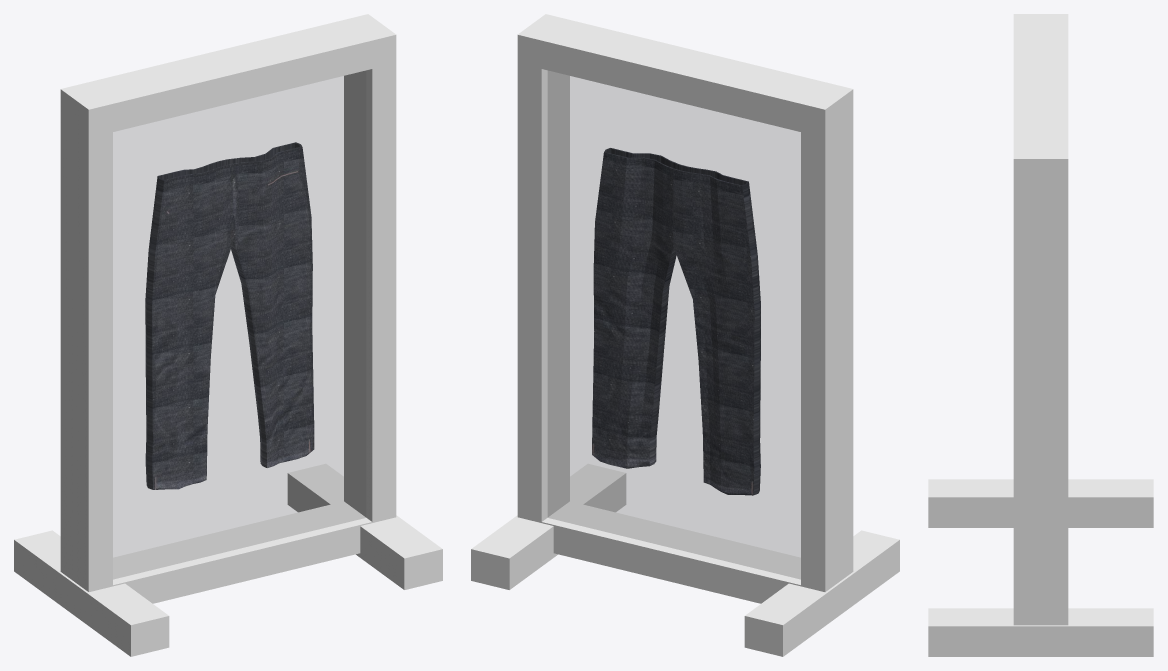
Rendered from koji.gltf.
The picture shows the model from 3 angles, left to right: view 1: azimuth 30°, elevation 25°; view 2: azimuth 150°, elevation 25°; view 3: azimuth 270°, elevation 25°; orthographic projection. The views are drawn at different scales.
Visible parts, largest first — view 1: Cube.051, Plane.016; view 2: Cube.051, Plane.016; view 3: Cube.051.
Boxes of the visible parts, x1,y1,x2,y2 form: Cube.051: (14,14,442,656); Plane.016: (145,142,314,489); Cube.051: (471,14,899,656); Plane.016: (592,148,760,495); Cube.051: (928,14,1153,656).
Size of the model in its own units: 0.4462 by 0.7029 by 0.2893.
Materials: 4 (1 with a texture image).
